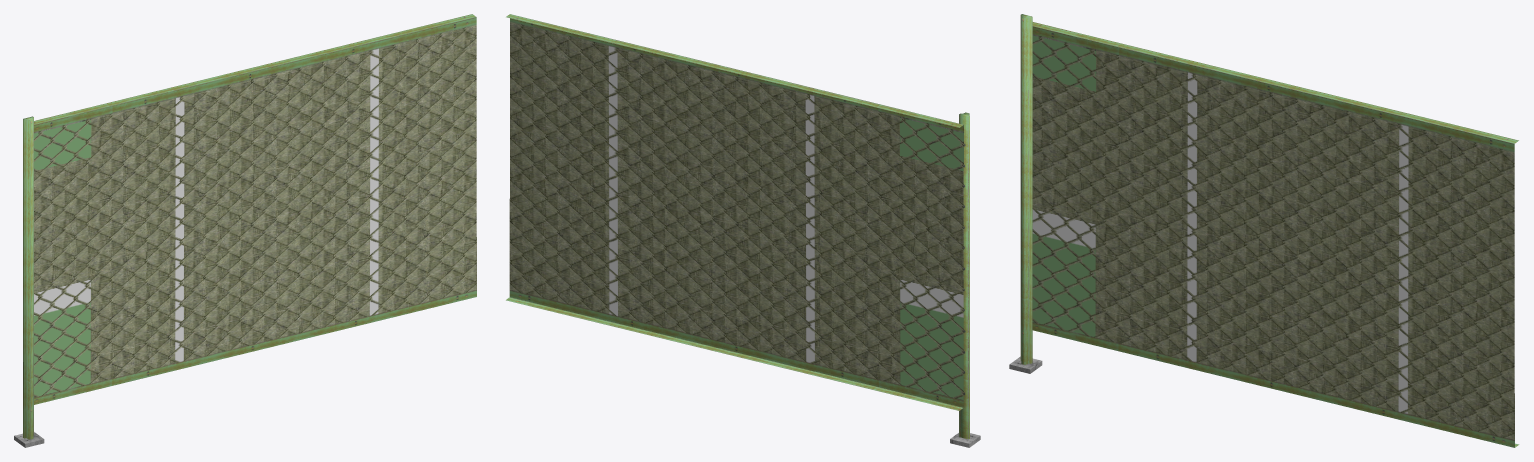
Rendered from kanaami_o.obj.
The picture shows the model from 3 angles, left to right: view 1: azimuth 30°, elevation 25°; view 2: azimuth 150°, elevation 25°; view 3: azimuth 330°, elevation 25°; orthographic projection. The views are drawn at different scales.
Visible parts, largest first — view 1: kanaami_a; view 2: kanaami_a; view 3: kanaami_a.
Part boxes in pixels (x1,y1,x2,y2): kanaami_a: [14, 14, 476, 447]; kanaami_a: [506, 14, 980, 447]; kanaami_a: [1009, 14, 1519, 447].
Size of the model in its own units: 2.23 by 1.5 by 0.0938.
1 material, 1 textured.
